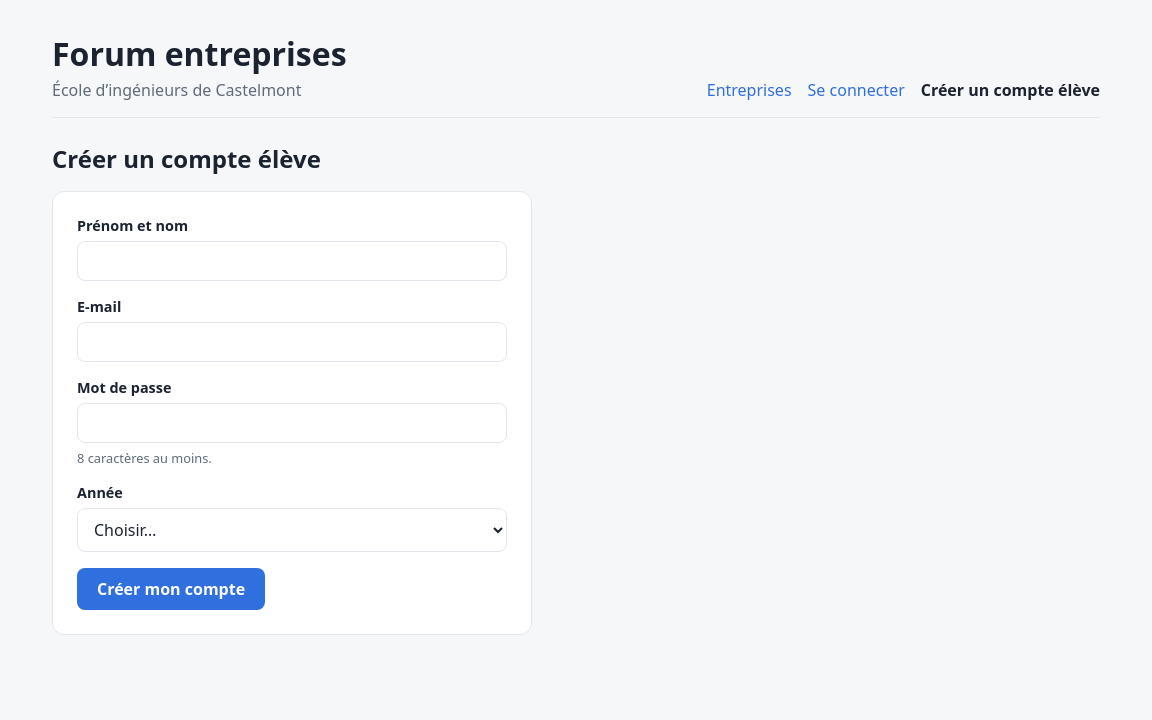
Test: RegisterPage › sends the year as a number, and logs the student in
The width and height of the screenshot is (1152, 720).
Type "Camille Martin" into the field labelled "Prénom et nom".
click(292, 261); type("Camille Martin")  # box left=77, top=241, right=507, bottom=281
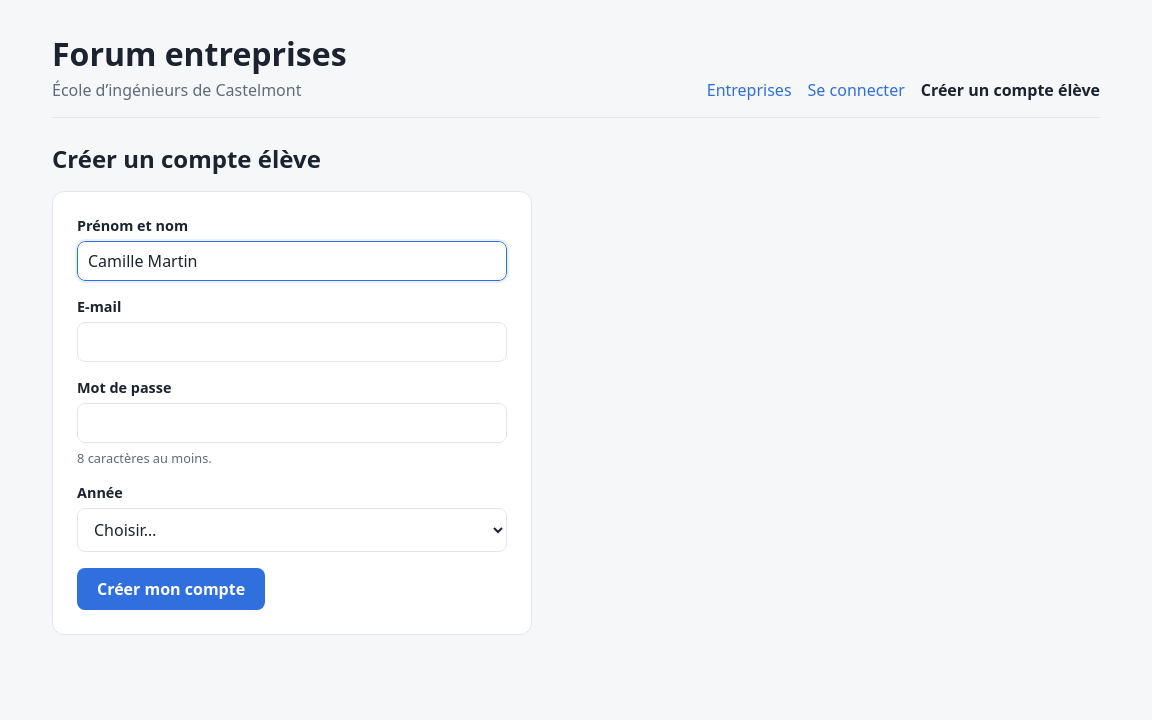
Type "camille@etu.test" into the field labelled "E-mail".
click(292, 342); type("camille@etu.test")  # box left=77, top=322, right=507, bottom=362
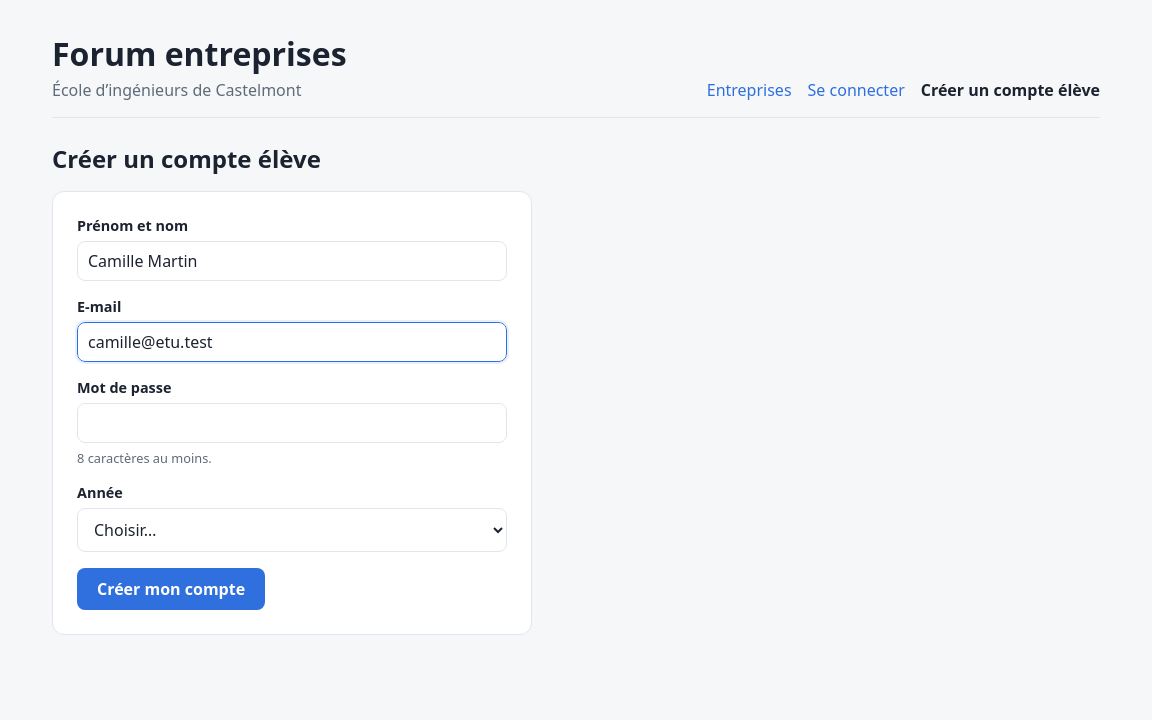
Type "password" into the password field labelled "Mot de passe".
click(292, 423); type("password")  # box left=77, top=403, right=507, bottom=443
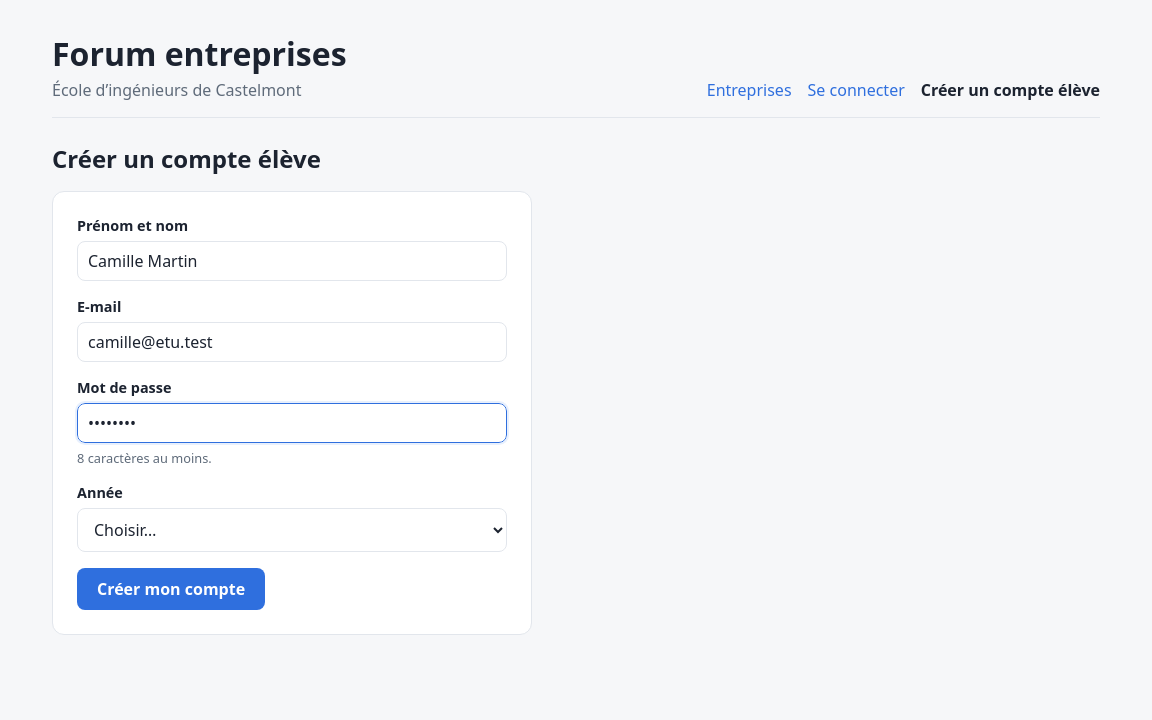
Select "2A" in the dropdown labelled "Année" at point(292, 530), box left=77, top=508, right=507, bottom=552
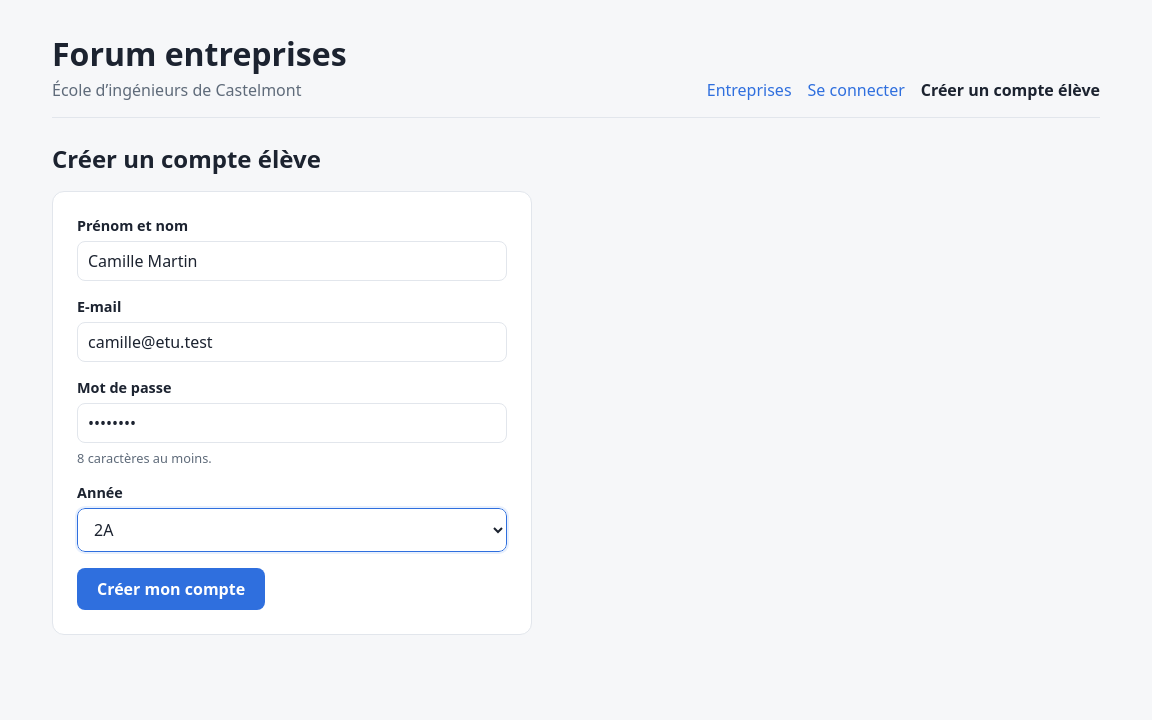
Click the button "Créer mon compte".
click(171, 589)  # box left=77, top=568, right=265, bottom=610
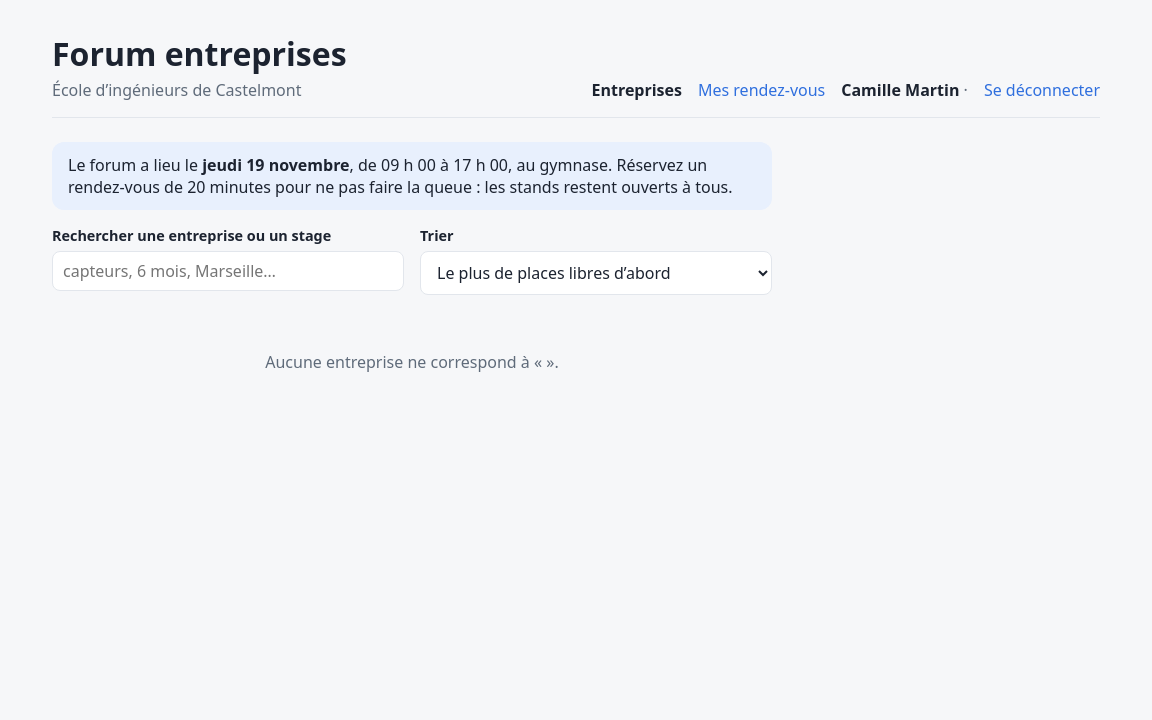
expect the text "Camille Martin" is shown: met, box left=841, top=79, right=968, bottom=101
